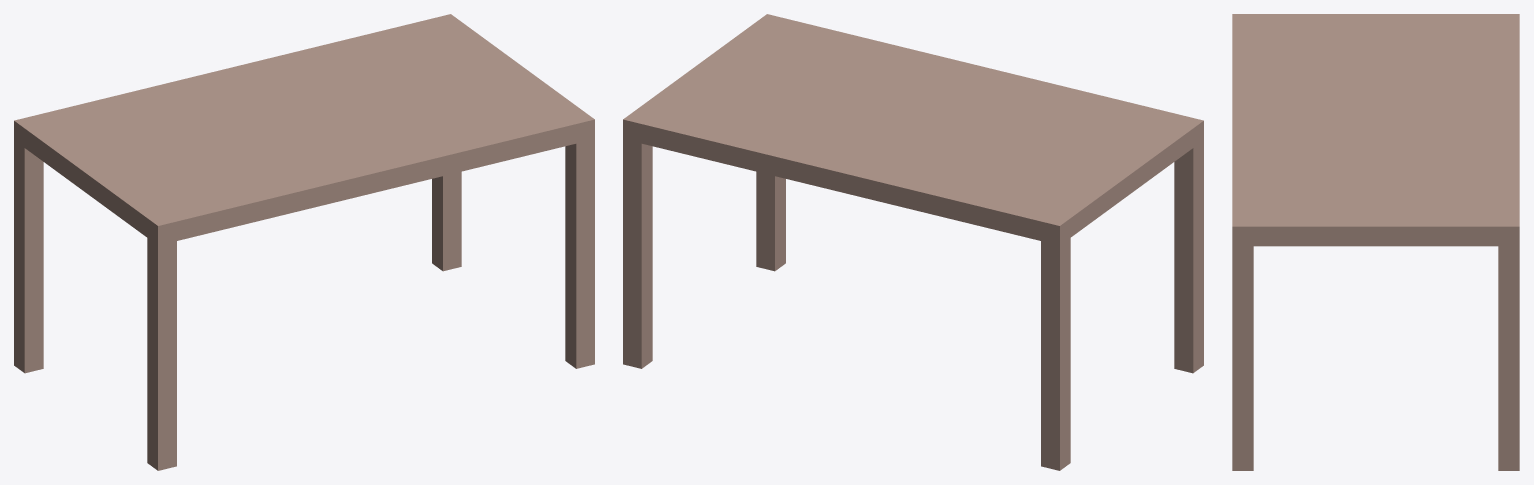
Rendered from table.glb.
3 views of the same model, side by side, from view 1: azimuth 30°, elevation 25°; view 2: azimuth 150°, elevation 25°; view 3: azimuth 270°, elevation 25° (orthographic).
Visible parts, largest first — view 1: world; view 2: world; view 3: world.
Boxes of the visible parts, x1,y1,x2,y2 form: world: [14, 14, 594, 470]; world: [623, 14, 1203, 470]; world: [1232, 14, 1519, 470].
Size of the model in its own units: 1.4 by 0.75 by 0.8.
